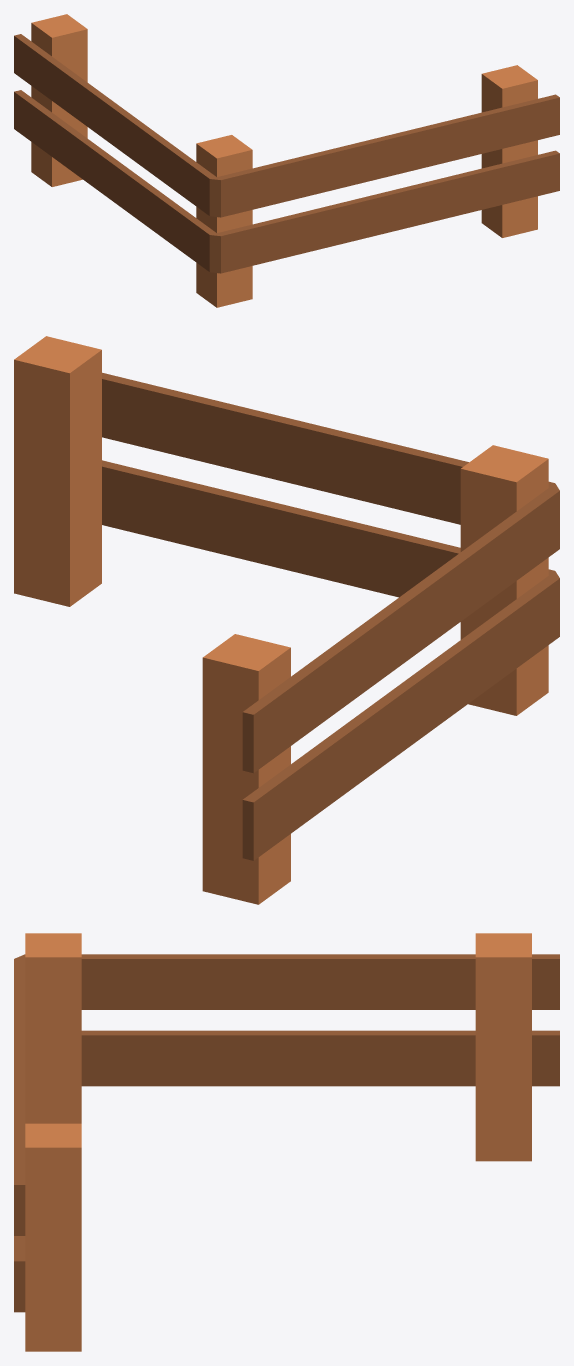
The model's file is fenceCorner.fbx.
3 renders of one model, top to bottom at view 1: azimuth 30°, elevation 25°; view 2: azimuth 150°, elevation 25°; view 3: azimuth 270°, elevation 25°, orthographic. The views are drawn at different scales.
Visible parts, largest first — view 1: fenceCorner; view 2: fenceCorner; view 3: fenceCorner.
Boxes of the visible parts, x1,y1,x2,y2 form: fenceCorner: [14, 14, 559, 307]; fenceCorner: [14, 336, 559, 904]; fenceCorner: [14, 933, 559, 1351].
Bounding box in the file's own units: 9.7 × 4 × 9.7.
